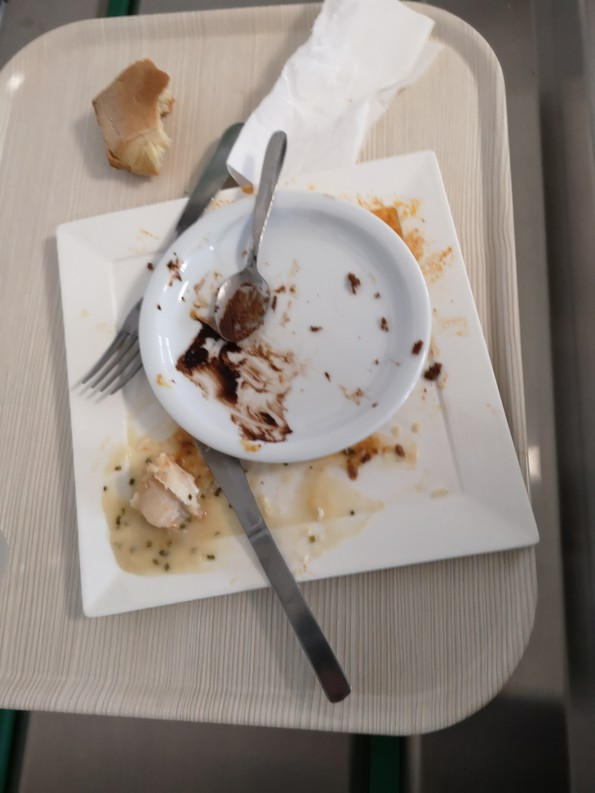cutlery: (85, 116, 248, 401), (196, 437, 350, 703), (221, 126, 305, 338)
orga: (79, 55, 202, 192)
trash: (235, 6, 432, 191)
